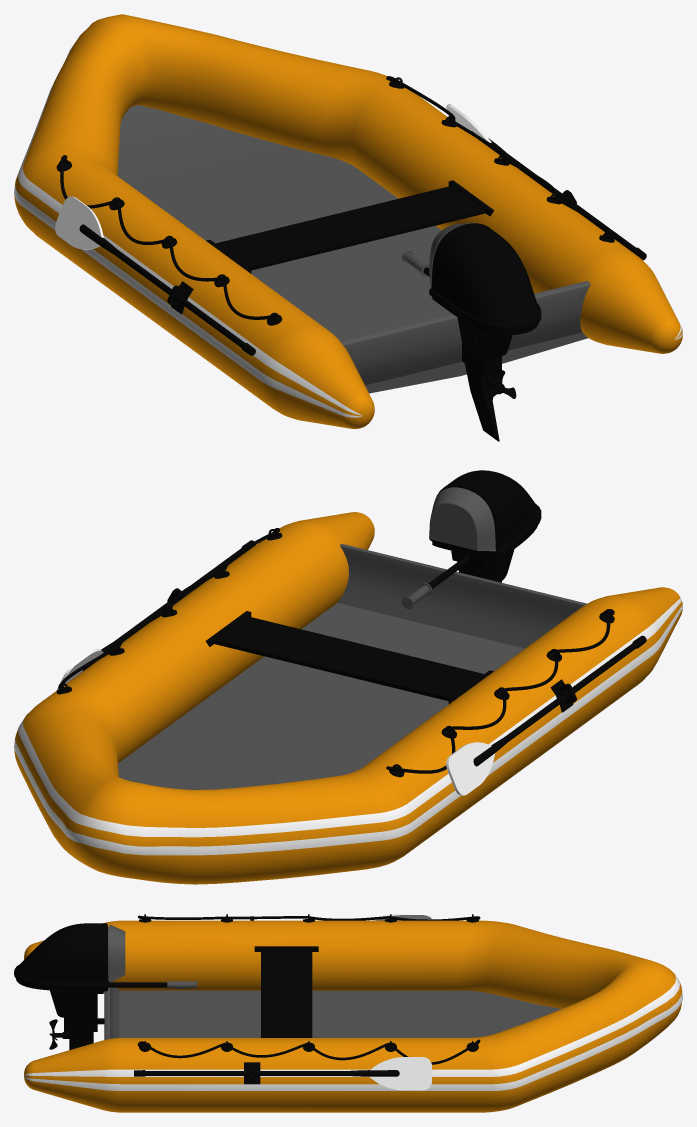
Rendered from pontoon.fbx.
3 renders of one model, top to bottom at view 1: azimuth 30°, elevation 25°; view 2: azimuth 150°, elevation 25°; view 3: azimuth 270°, elevation 25°, orthographic. The views are drawn at different scales.
Parts seen in each view (by area): view 1: Cylinder; view 2: Cylinder; view 3: Cylinder.
Part boxes in pixels (box(x1,y1,x2,y2)): Cylinder: box(14, 14, 682, 441); Cylinder: box(14, 470, 682, 884); Cylinder: box(14, 913, 682, 1112).
Size of the model in its own units: 140 by 63.07 by 255.
